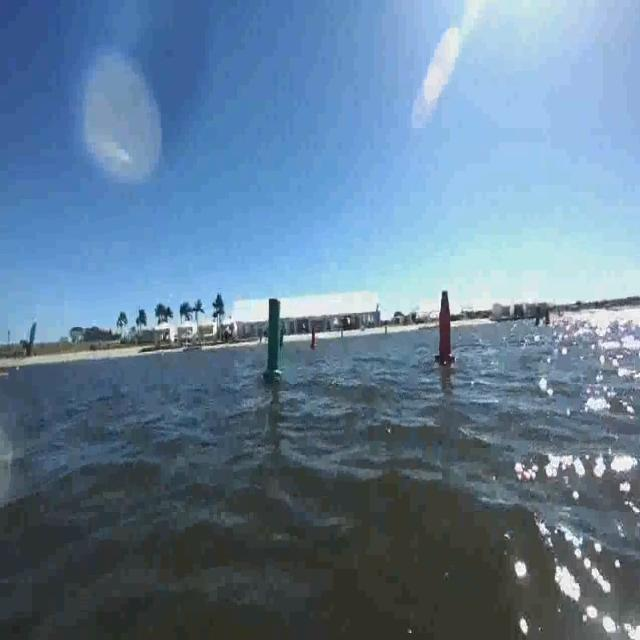green-column-buoy: (264, 298, 288, 382)
red-column-buoy: (436, 286, 457, 368), (308, 325, 316, 351)
